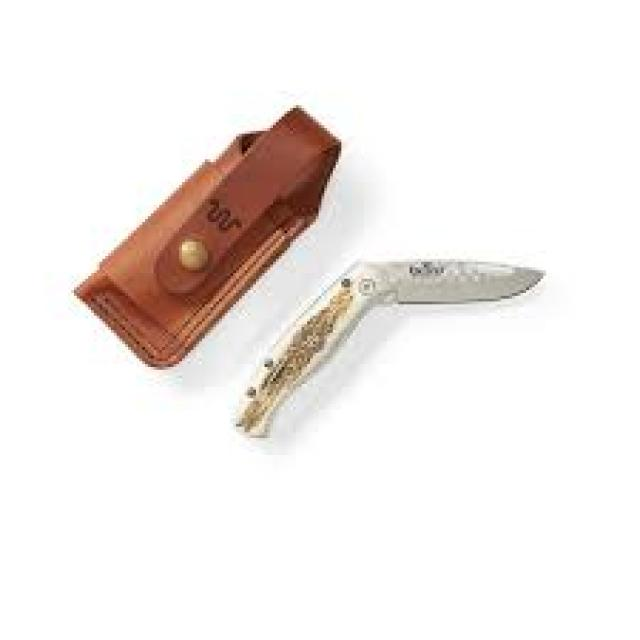knives: (228, 250, 549, 444)
